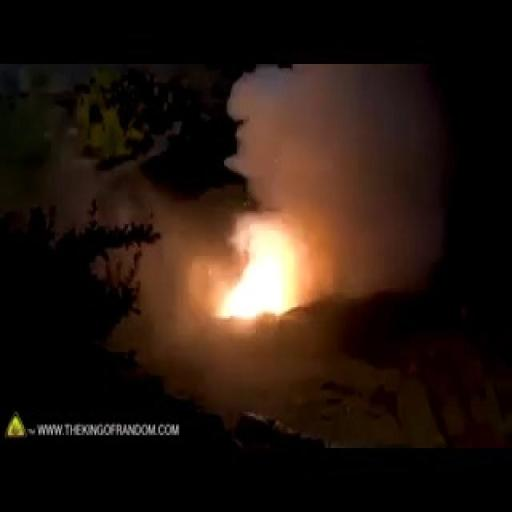smoke: (202, 208, 321, 321)
